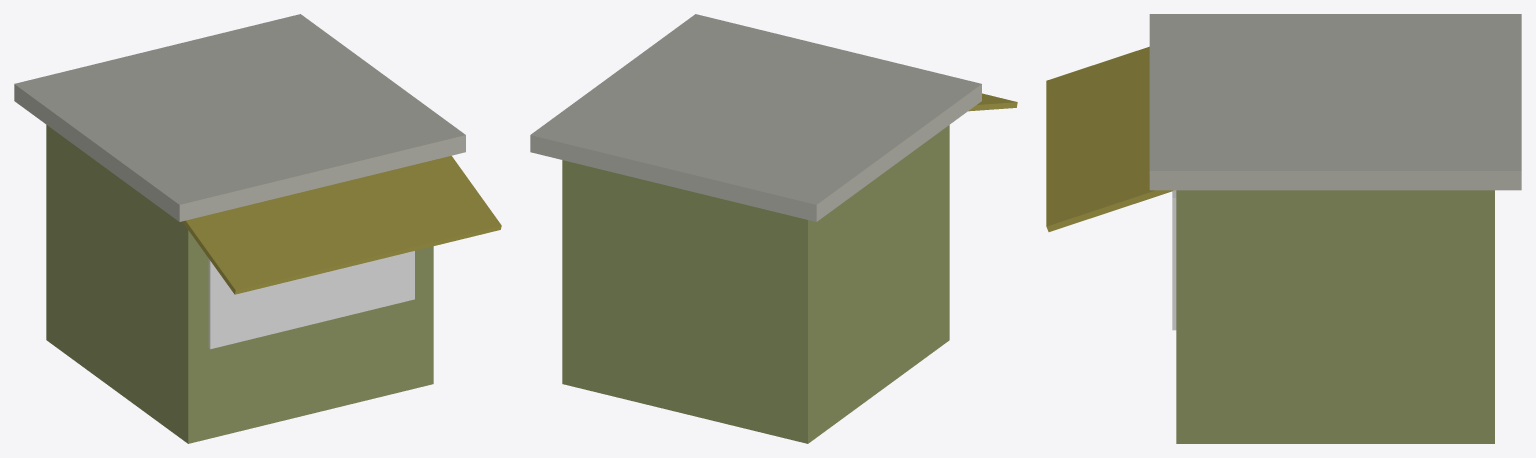
File: SM_Quiosco_v2_Loteria_LOD1.fbx
3 views of the same model, side by side, from view 1: azimuth 30°, elevation 25°; view 2: azimuth 150°, elevation 25°; view 3: azimuth 270°, elevation 25° (orthographic). The views are drawn at different scales.
Parts seen in each view (by area): view 1: SM_urbano_extra_v12_LOD1; view 2: SM_urbano_extra_v12_LOD1; view 3: SM_urbano_extra_v12_LOD1.
Part boxes in pixels (bbox=[...]): SM_urbano_extra_v12_LOD1: bbox=[14, 14, 501, 443]; SM_urbano_extra_v12_LOD1: bbox=[530, 14, 1017, 443]; SM_urbano_extra_v12_LOD1: bbox=[1046, 14, 1521, 443].
Size of the model in its own units: 2.8 by 2.36 by 3.58.
